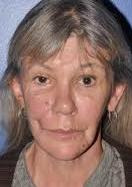strokeEyeWeak: (31, 61, 99, 90), (42, 122, 89, 143)
